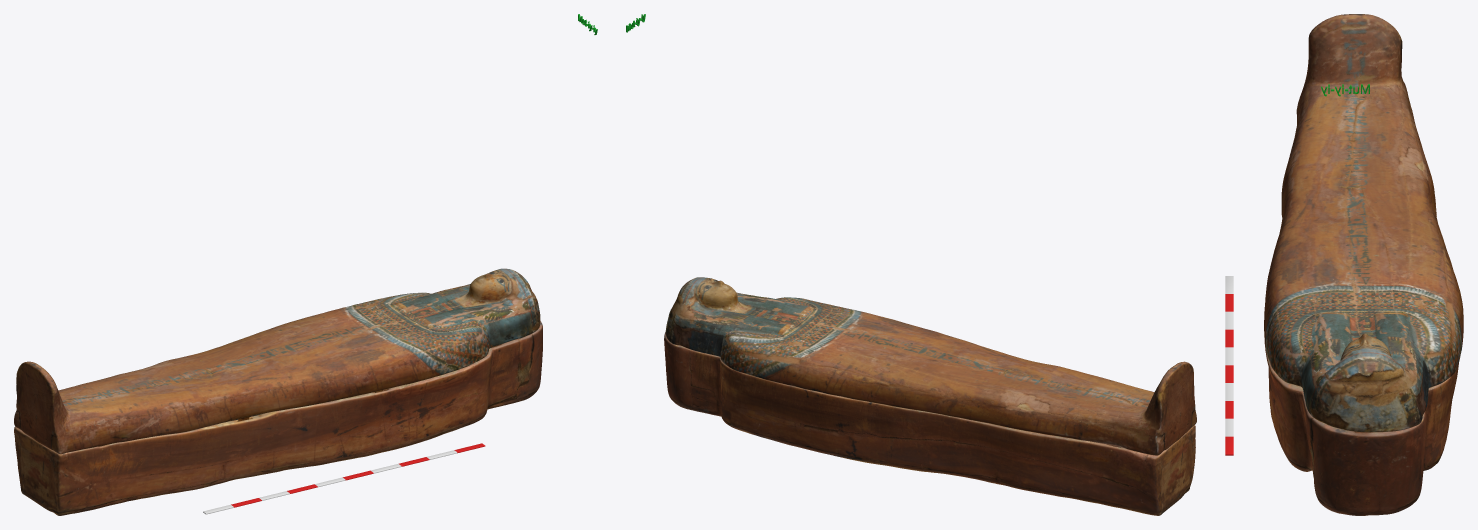
File: Mut-iy-iy.fbx
The picture shows the model from 3 angles, left to right: view 1: azimuth 30°, elevation 25°; view 2: azimuth 150°, elevation 25°; view 3: azimuth 270°, elevation 25°; orthographic projection. The views are drawn at different scales.
Parts seen in each view (by area): view 1: Mut-iy-iy _TOP, Mut-iy-iy_BOTTOM_LD, Box006, Object002; view 2: Mut-iy-iy _TOP, Mut-iy-iy_BOTTOM_LD; view 3: Mut-iy-iy _TOP, Mut-iy-iy_BOTTOM_LD, Box006, Object002.
Boxes of the visible parts, left/top/right/bottom form: Mut-iy-iy _TOP: left=14, top=268, right=540, bottom=454; Mut-iy-iy_BOTTOM_LD: left=14, top=321, right=542, bottom=515; Box006: left=203, top=450, right=457, bottom=514; Object002: left=231, top=443, right=485, bottom=507; Mut-iy-iy _TOP: left=665, top=277, right=1196, bottom=455; Mut-iy-iy_BOTTOM_LD: left=664, top=332, right=1195, bottom=515; Mut-iy-iy _TOP: left=1264, top=14, right=1463, bottom=432; Mut-iy-iy_BOTTOM_LD: left=1264, top=197, right=1458, bottom=515; Box006: left=1225, top=276, right=1233, bottom=436; Object002: left=1225, top=294, right=1233, bottom=455.
Size of the model in its own units: 198 by 122 by 56.51.
